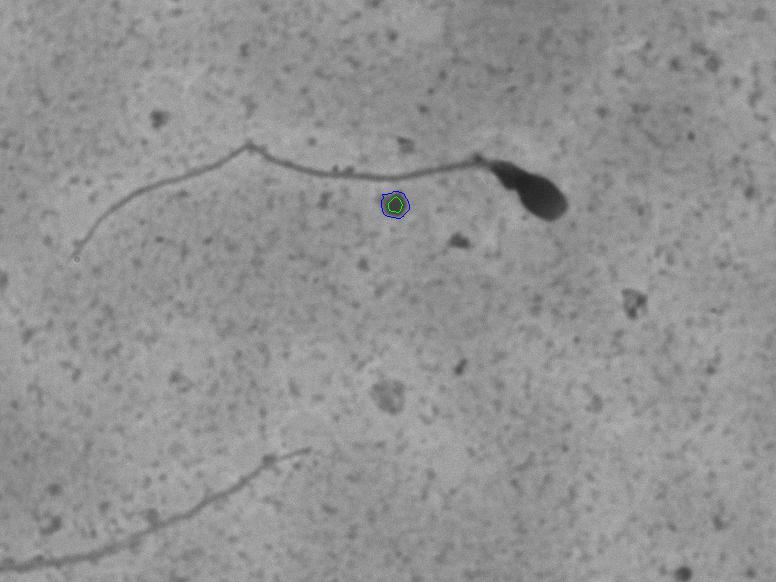Abnormal: (32, 114, 602, 267)
